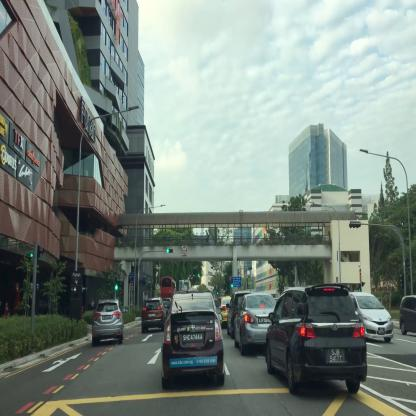green_traffic_light: (115, 277, 118, 290), (166, 249, 172, 253), (231, 278, 233, 286)
